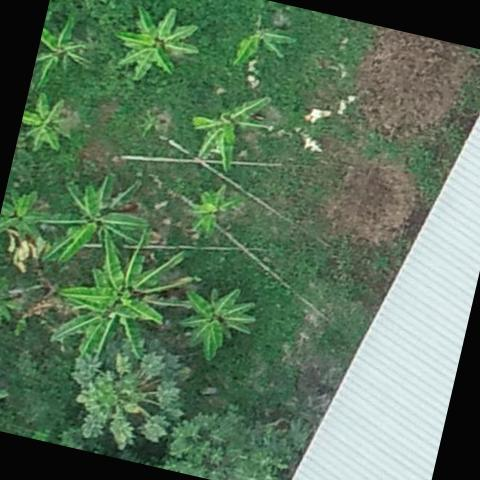Banana-plant: (43, 223, 198, 386), (24, 152, 158, 280), (180, 81, 280, 186), (110, 0, 207, 94), (168, 278, 262, 372), (28, 8, 107, 106), (228, 10, 299, 76), (14, 86, 76, 160), (0, 178, 53, 260), (187, 176, 245, 250), (47, 0, 121, 21), (0, 359, 16, 431)
